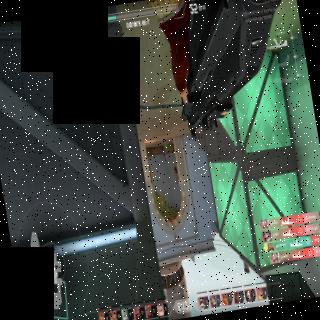ENEMY-BODY: (161, 144, 168, 162)
ENEMY-HEAD: (166, 158, 167, 161)
